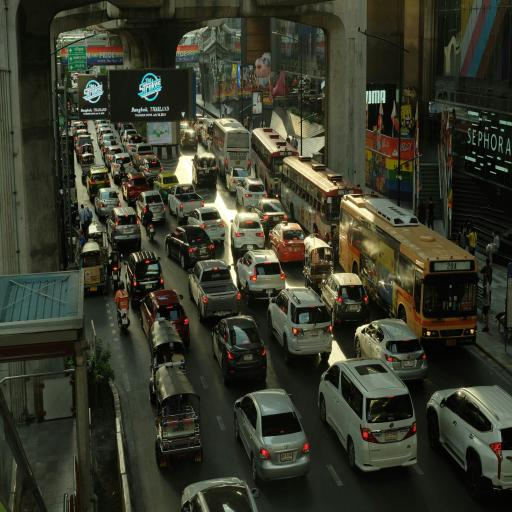bike: (118, 310, 129, 335), (147, 224, 155, 241)
car: (319, 359, 417, 471), (427, 386, 511, 499), (235, 390, 310, 481), (268, 288, 332, 363), (355, 319, 427, 381), (212, 316, 266, 384), (189, 260, 240, 321), (140, 290, 189, 345), (236, 250, 285, 305), (321, 273, 370, 327), (181, 478, 259, 511), (125, 251, 164, 307), (165, 226, 215, 269), (231, 213, 265, 256), (107, 207, 141, 250), (168, 184, 204, 224), (269, 222, 304, 262), (188, 207, 225, 243), (252, 199, 287, 234), (236, 179, 267, 210), (136, 191, 165, 223), (122, 173, 149, 205), (86, 166, 110, 201), (192, 153, 217, 185), (153, 173, 179, 202), (95, 188, 120, 218), (110, 153, 132, 183), (139, 157, 163, 184), (132, 143, 156, 170), (226, 168, 250, 192), (104, 145, 123, 172), (199, 119, 214, 149), (123, 133, 142, 155), (77, 135, 92, 162), (100, 139, 116, 163), (77, 142, 94, 163), (181, 129, 197, 149), (74, 130, 89, 151), (97, 127, 113, 145), (121, 129, 137, 144), (96, 123, 109, 141), (99, 133, 115, 147), (194, 117, 205, 135), (118, 123, 133, 135), (73, 122, 86, 134), (95, 120, 108, 128), (181, 121, 189, 133)
